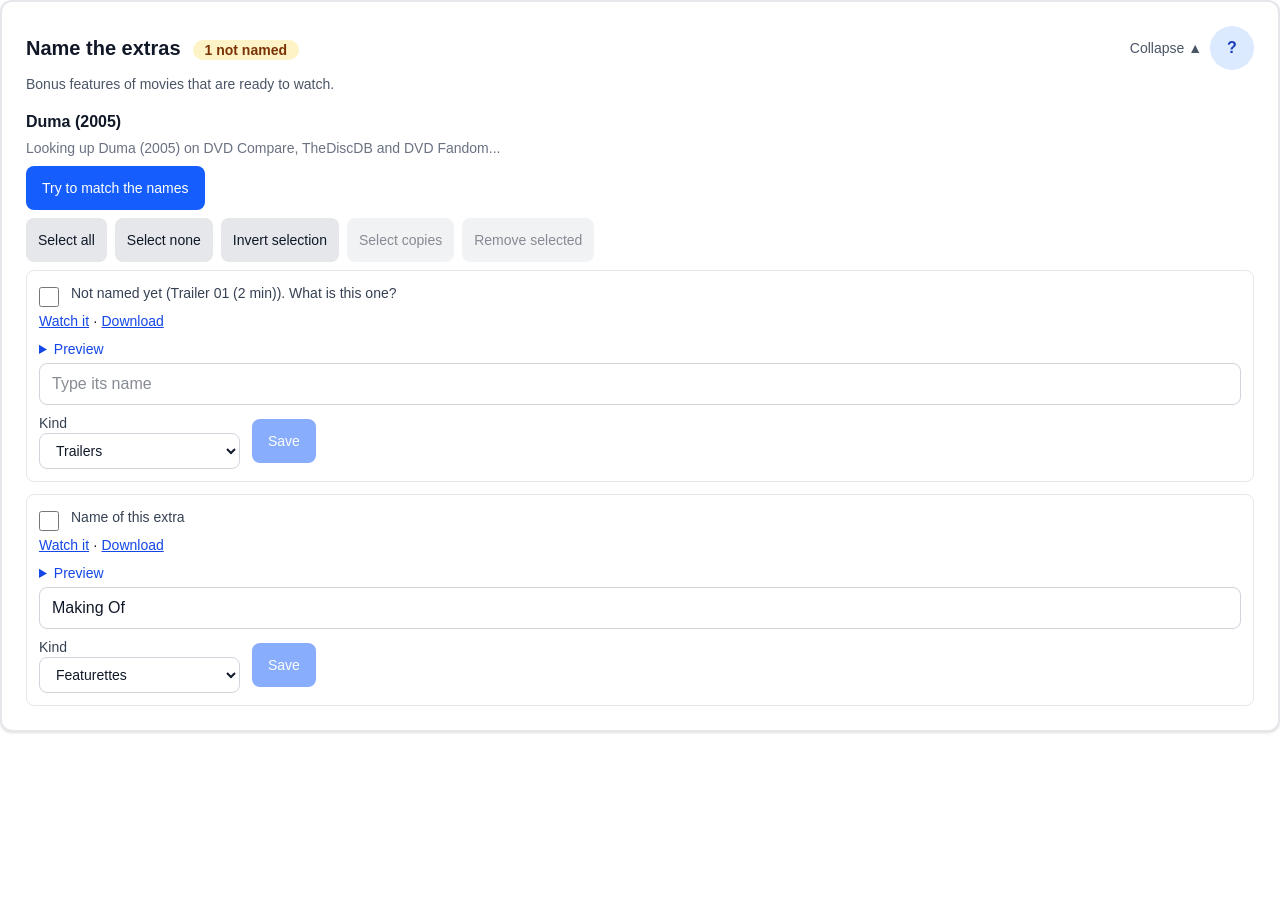
Test: the "Name the extras" section › what the server refuses is shown next to that extra
This screenshot has width=1280, height=900.
Type "Making Of" into the field named "Name of the extra Trailer 01 (2 min) in Duma (2005)".
click(640, 384); type("Making Of")  # box [39, 363, 1241, 405]
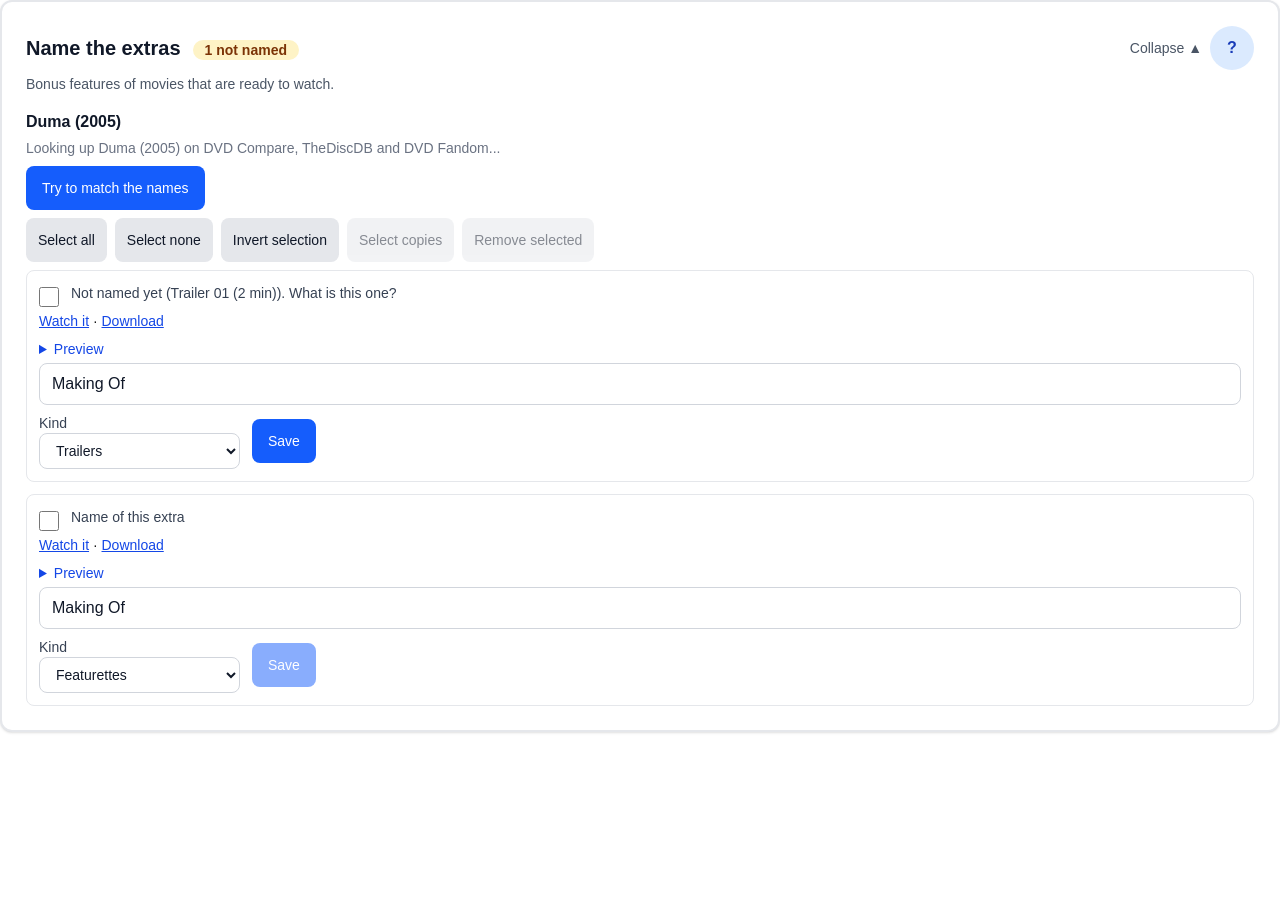
Click the 1st button "Save".
click(284, 441)  # box [252, 419, 316, 463]
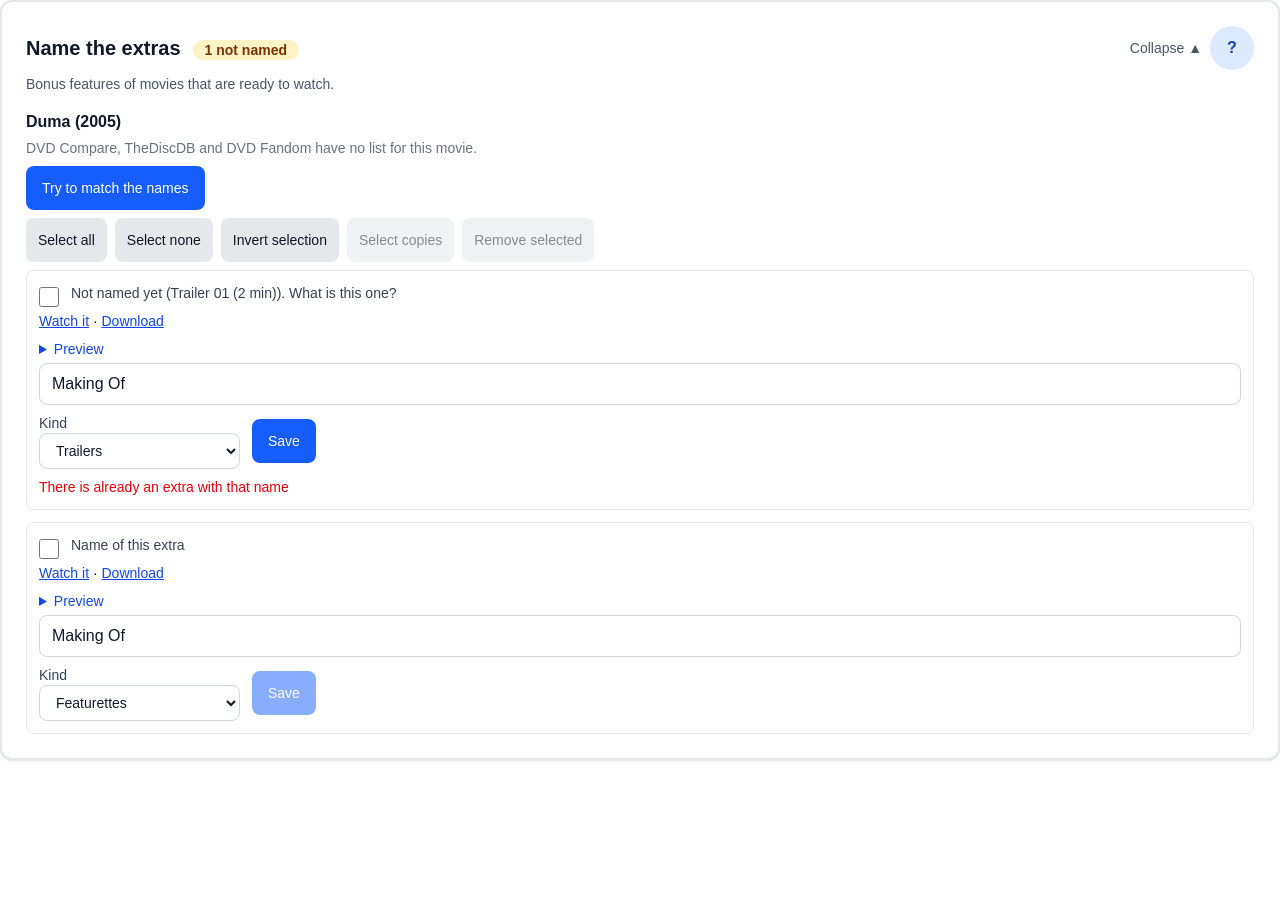
Expected: the message shows "already an extra", [39, 479, 289, 495]
